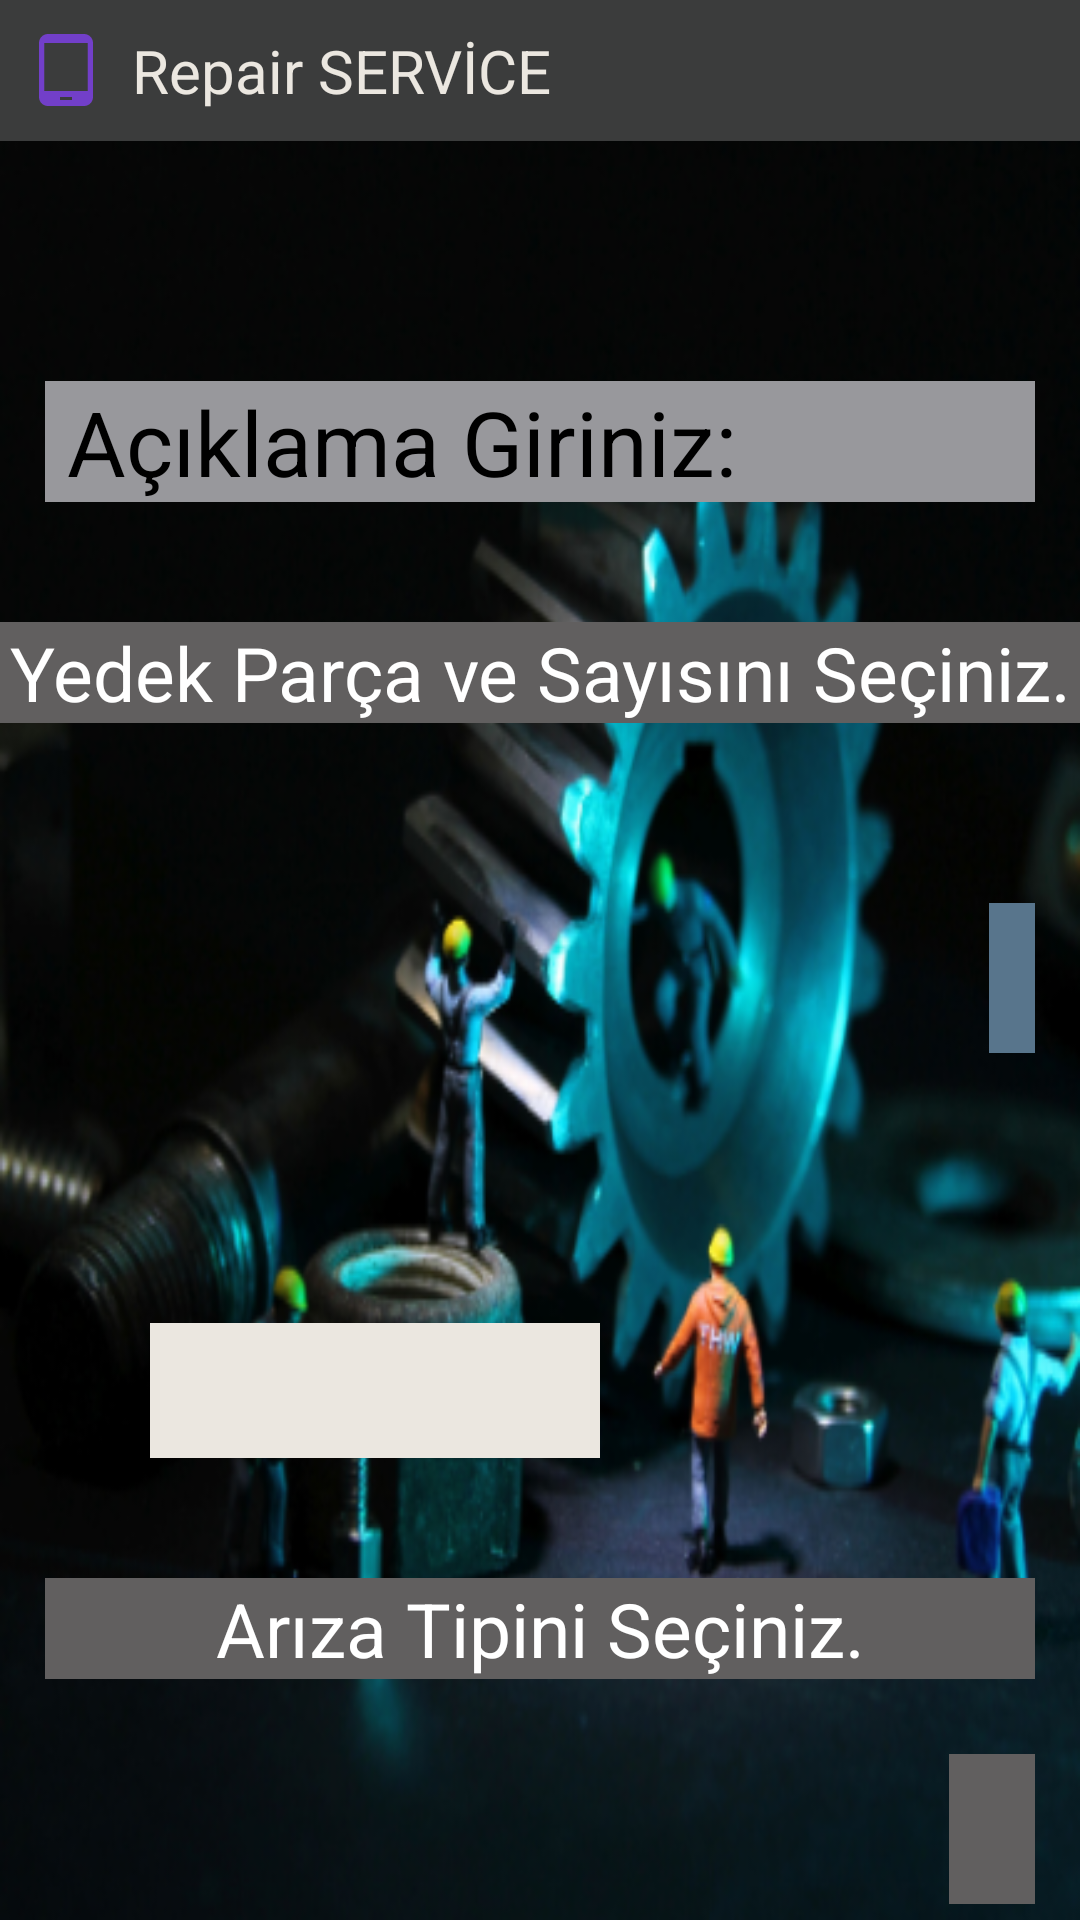

Icon click points for this 1080 × 1920 phone screenshot, format point (x, y):
tablet android: point (66, 70)
